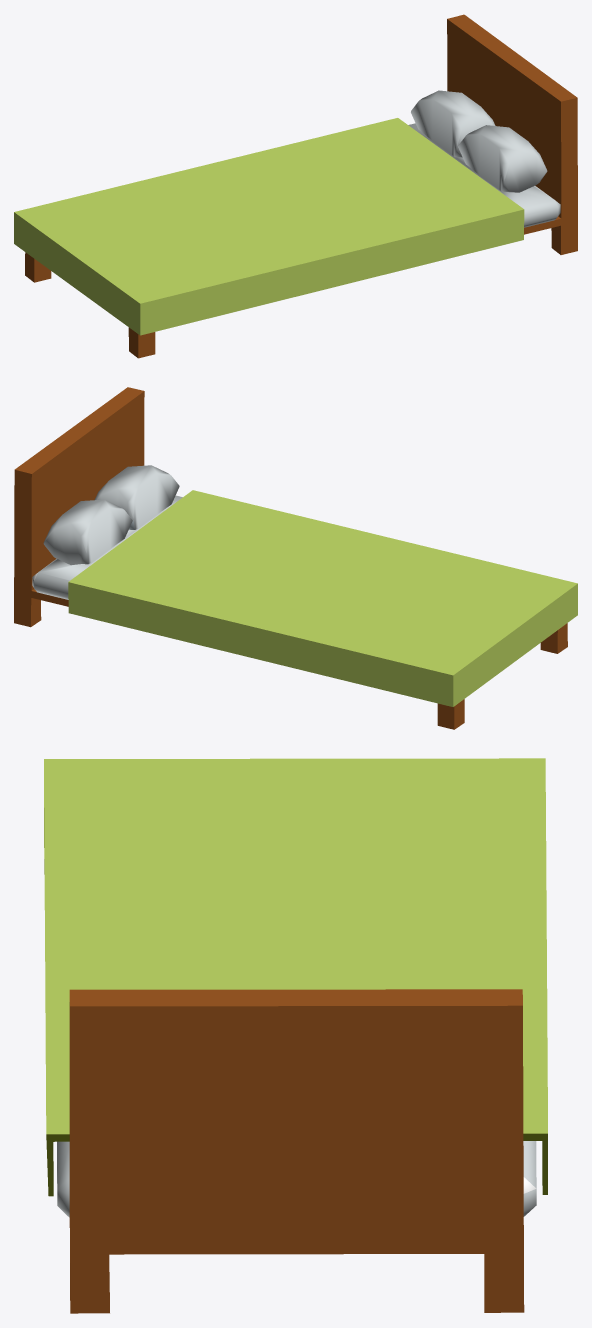
The model's file is Cama1.fbx.
The picture shows the model from 3 angles, top to bottom: view 1: azimuth 30°, elevation 25°; view 2: azimuth 150°, elevation 25°; view 3: azimuth 270°, elevation 25°; orthographic projection. The views are drawn at different scales.
Visible parts, largest first — view 1: Cube.025; view 2: Cube.025; view 3: Cube.025.
Boxes of the visible parts, x1,y1,x2,y2 form: Cube.025: [14, 14, 577, 358]; Cube.025: [14, 387, 577, 729]; Cube.025: [44, 758, 547, 1313].
Size of the model in its own units: 1.66 by 0.5474 by 0.8138.
